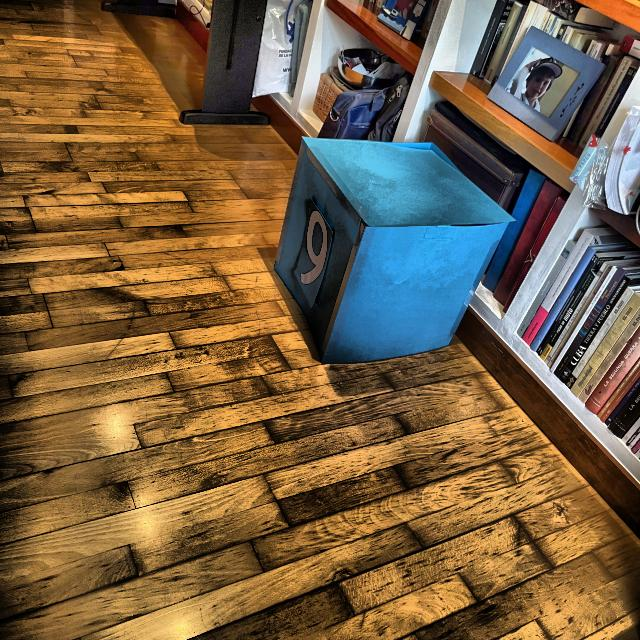blue box: (276, 136, 500, 363)
nine: (295, 199, 336, 294)
